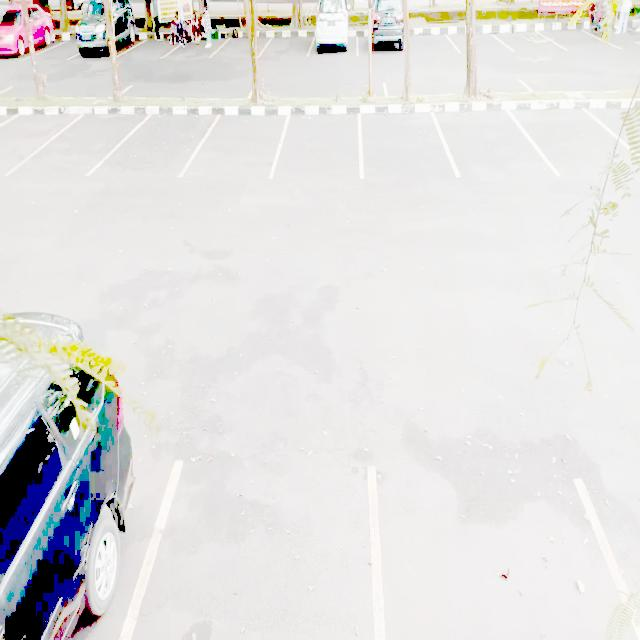empty: (127, 461, 382, 640), (372, 473, 621, 640), (11, 110, 148, 180), (87, 108, 216, 180), (509, 104, 623, 175), (438, 106, 547, 178), (185, 110, 284, 180), (357, 109, 447, 182), (278, 110, 366, 182), (0, 110, 75, 174), (261, 28, 310, 58), (408, 25, 455, 54)
occupied: (312, 1, 360, 56), (367, 12, 408, 56)
